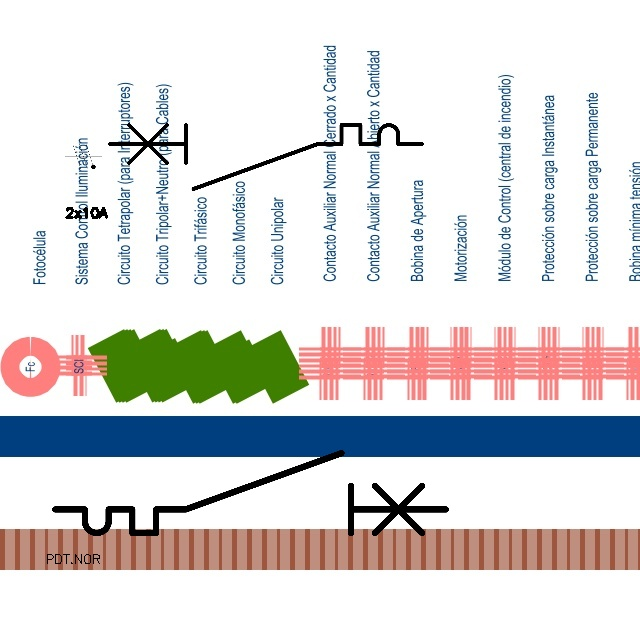interruptor_termomagnetico: (45, 443, 456, 543), (102, 117, 430, 197)
